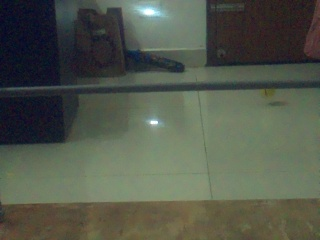ball: (261, 89, 274, 97)
